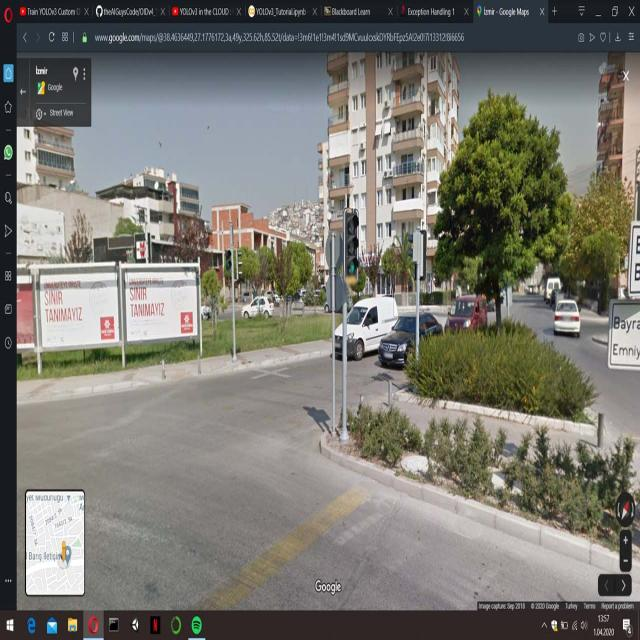yesil: (345, 208, 357, 276)
